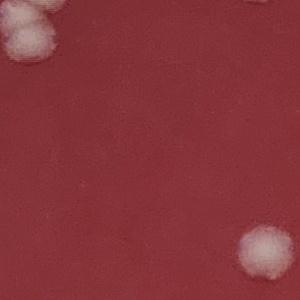colony: (229, 220, 300, 284), (0, 15, 62, 67), (0, 0, 56, 44), (12, 0, 75, 18)
